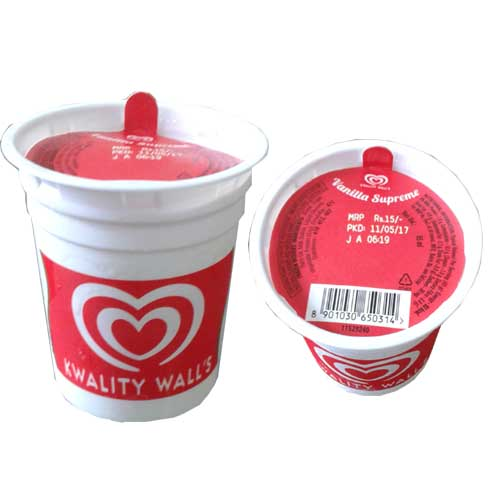Kwality_Walls: (52, 270, 209, 384), (356, 172, 399, 192)
